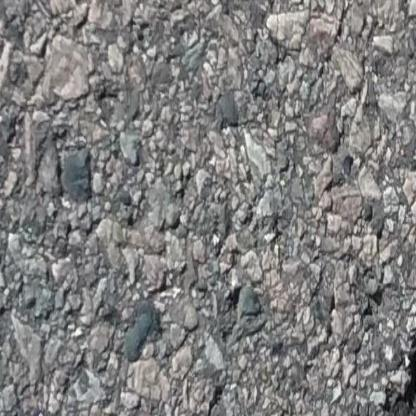Cracks: (366, 289, 416, 416)
